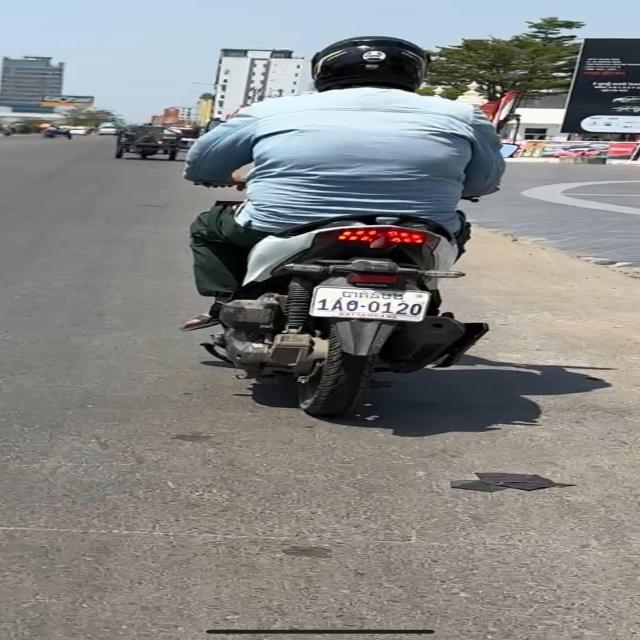Battambang: (339, 289, 407, 300)
